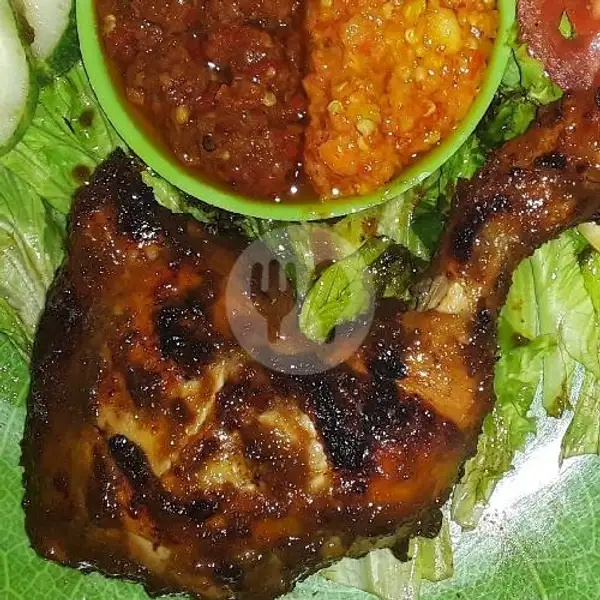ayam_goreng: (22, 153, 600, 585)
